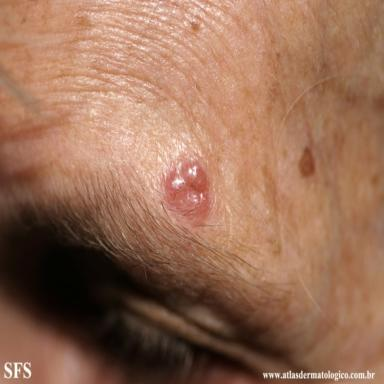basal-cell-carcinoma: (163, 160, 211, 220)
